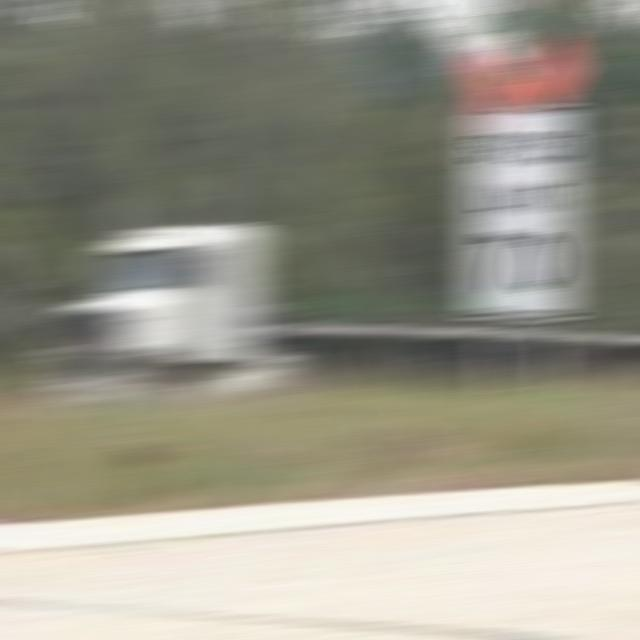speedLimit70: (457, 101, 584, 325)
